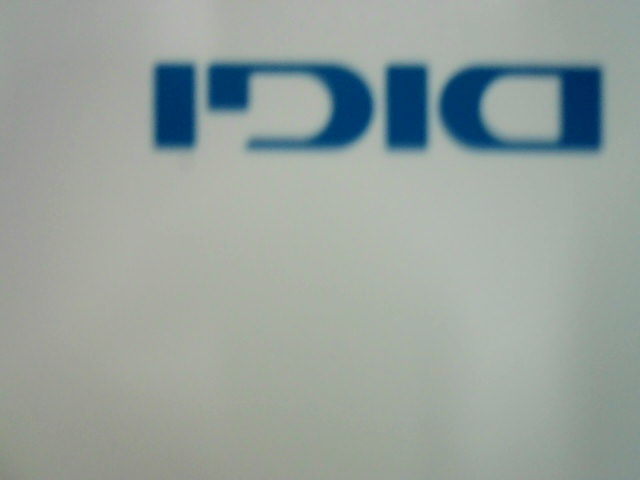BL_DIGI: (146, 40, 607, 166)
